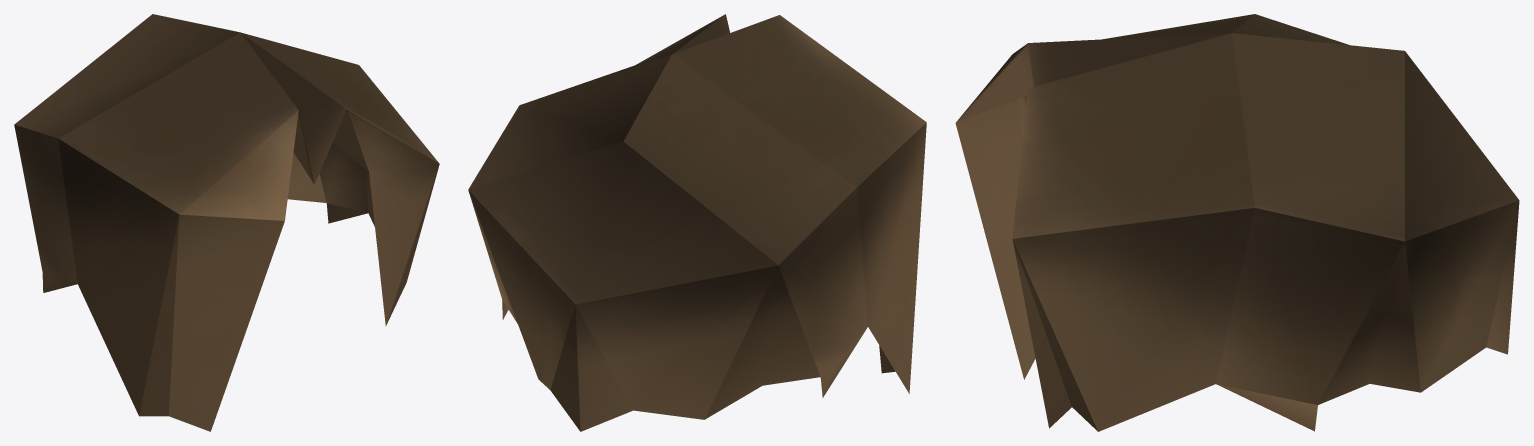
Rendered from Leon Hair.fbx.
3 views of the same model, side by side, from view 1: azimuth 30°, elevation 25°; view 2: azimuth 150°, elevation 25°; view 3: azimuth 270°, elevation 25° (orthographic). The views are drawn at different scales.
Visible parts, largest first — view 1: Hair.002; view 2: Hair.002; view 3: Hair.002.
Part boxes in pixels (x1=…): Hair.002: x1=14, y1=14, x2=439, y2=431; Hair.002: x1=468, y1=14, x2=926, y2=431; Hair.002: x1=955, y1=14, x2=1519, y2=431.
Size of the model in its own units: 28.1 by 28.16 by 34.55.
Materials: 1 (1 with a texture image).
